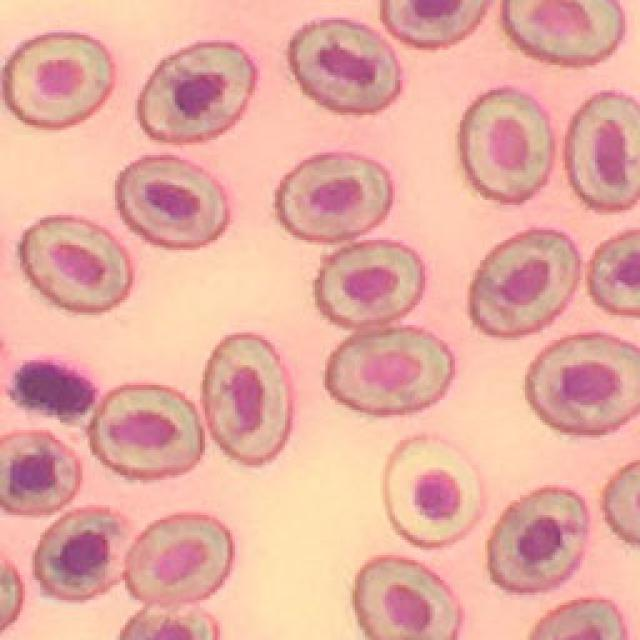RBC: (466, 229, 582, 340), (201, 335, 297, 468), (136, 42, 257, 144), (524, 333, 640, 436), (323, 327, 457, 416), (457, 87, 555, 206), (1, 31, 116, 132), (87, 384, 203, 484), (485, 487, 589, 598), (381, 437, 484, 549), (114, 154, 230, 251), (17, 217, 132, 314), (288, 17, 401, 115), (274, 152, 394, 242), (33, 505, 136, 605), (125, 514, 234, 607), (313, 240, 427, 328), (353, 557, 466, 640), (564, 92, 640, 214), (501, 0, 626, 68), (0, 430, 81, 517), (381, 0, 491, 50), (586, 229, 640, 318), (532, 601, 626, 640), (121, 604, 220, 640)
WBC: (11, 360, 97, 415)
